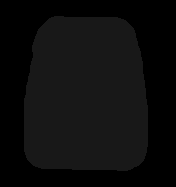fp: (16, 15, 151, 171)
